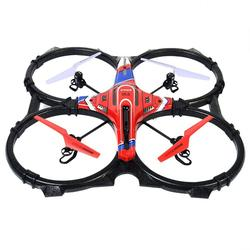drone: (5, 45, 246, 199)
